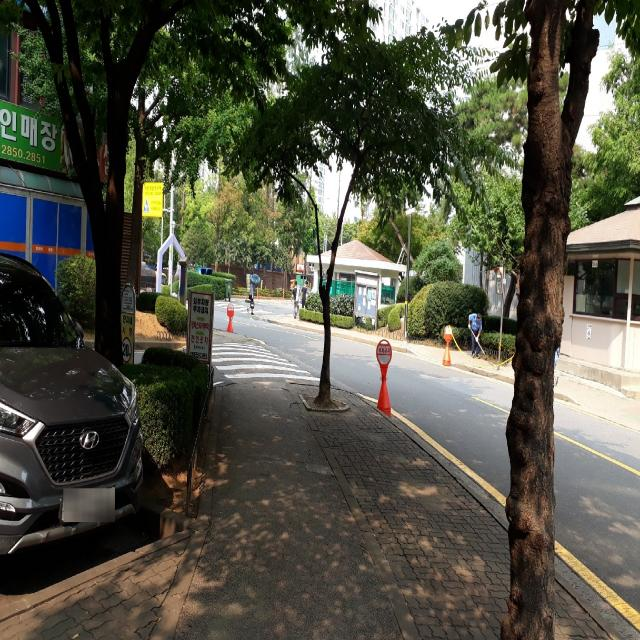횡단보도: (211, 342, 322, 382)
